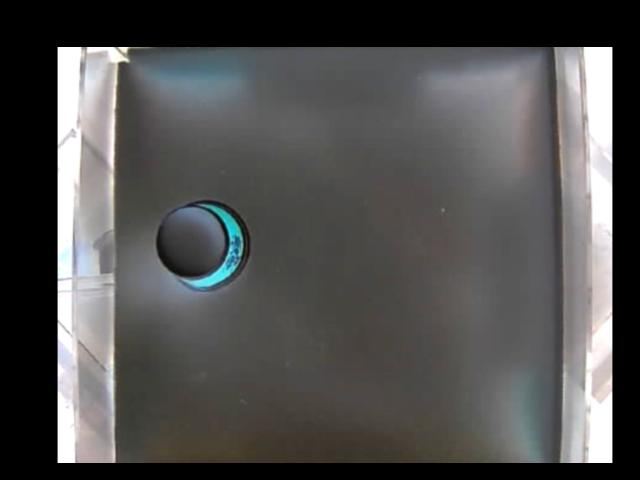Cup: (153, 196, 248, 293)
